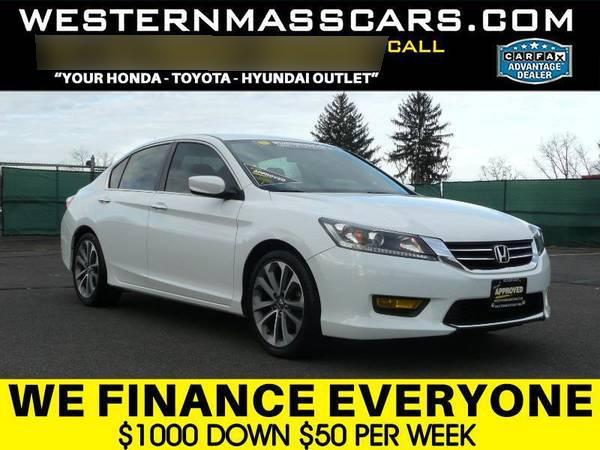Front_Bumper: (307, 240, 554, 345)
Front_Fender: (232, 187, 336, 316)
Front_Right_Door: (147, 192, 243, 311)
Front_Right_Window: (158, 140, 244, 202)
Front_Windshield: (227, 140, 418, 194)
Grille: (448, 241, 536, 272)
Hood: (270, 194, 532, 245)
Left_Headlight: (527, 224, 545, 257)
Rear_Bumper: (61, 238, 73, 271)
Rear_Fender: (60, 168, 110, 243)
Rear_Right_Door: (91, 191, 155, 294)
Rear_Right_Window: (107, 139, 178, 192)
Right_Headlight: (320, 217, 442, 261)
Roof: (114, 131, 327, 185)
Wheel: (246, 249, 318, 355), (70, 232, 106, 299)
